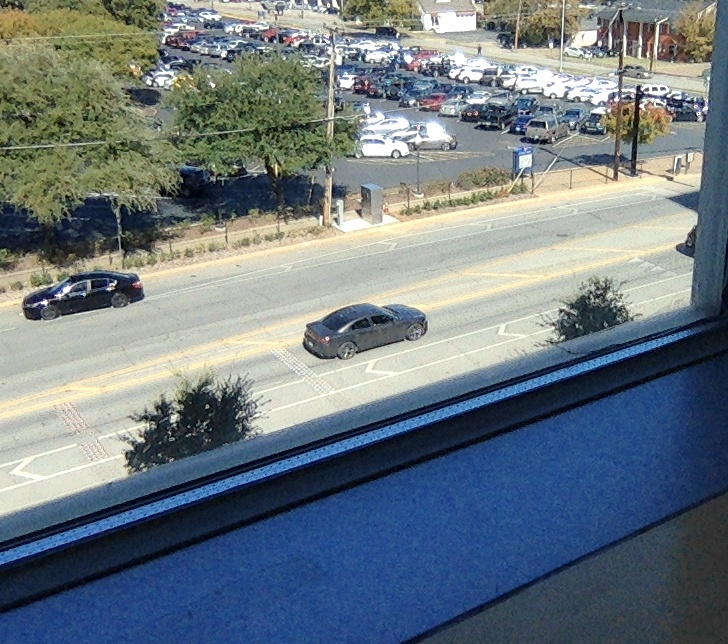car: (300, 300, 428, 362)
